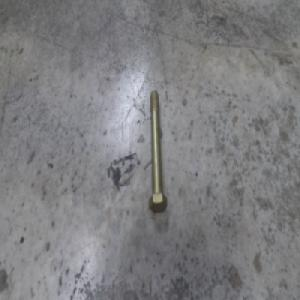Bolt: (146, 90, 168, 212)
